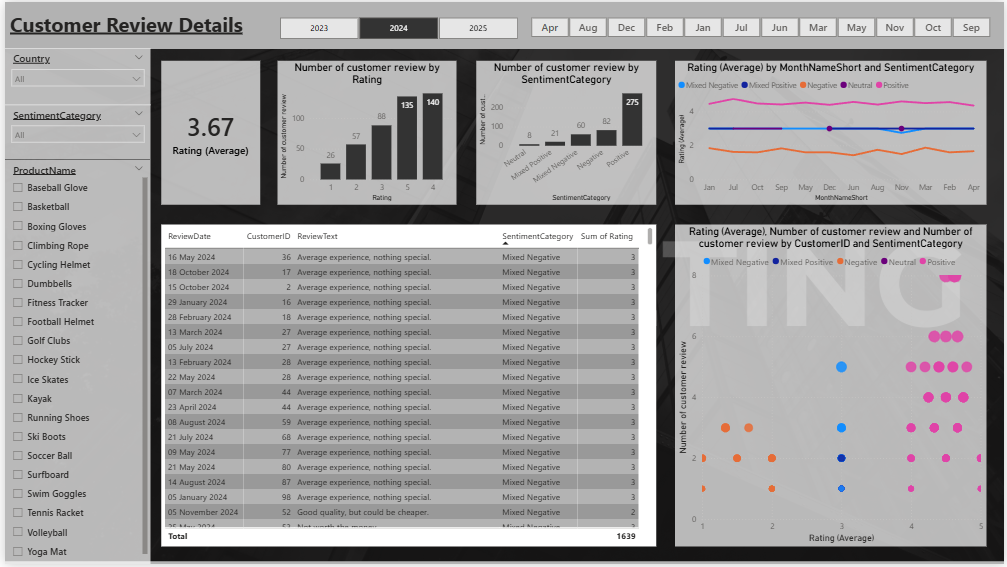

This screenshot's page, from the dashboard's own definition file:
{"tool":"powerbi","page":{"name":"Customer Review Details","canvas":[1600,900],"ordinal":3},"visuals":[{"type":"shape","box":[0,0,1600,75],"z":0},{"type":"textbox","box":[0,8,388,76],"z":1000},{"type":"slicer","fields":{"Values":["Calendar.Year"]},"box":[414,18,430,48],"z":2000},{"type":"slicer","fields":{"Values":["Calendar.MonthNameShort"]},"box":[816,18,784,42],"z":3000},{"type":"slicer","fields":{"Values":["products.ProductName"]},"box":[0,251.7,233,648.3],"z":4000},{"type":"lineChart","fields":{"Category":["Calendar.MonthNameShort"],"Y":["Calculation.Rating (Average)"],"Series":["Customer-Sentiment-Analysis-.SentimentCategory"]},"box":[1071.7,93.3,498.3,230],"z":5000},{"type":"tableEx","fields":{"Values":["Customer-Sentiment-Analysis-.ReviewDate","Customer-Sentiment-Analysis-.CustomerID","Customer-Sentiment-Analysis-.ReviewText","Customer-Sentiment-Analysis-.SentimentCategory","Sum(Customer-Sentiment-Analysis-.Rating)"]},"box":[250,356.7,791.7,515],"z":6000},{"type":"columnChart","fields":{"Y":["Calculation.Number of customer review"],"Category":["Customer-Sentiment-Analysis-.Rating"]},"box":[435,93.3,286.7,230],"z":7000},{"type":"columnChart","fields":{"Category":["Customer-Sentiment-Analysis-.SentimentCategory"],"Y":["Calculation.Number of customer review"]},"box":[753.3,93.3,288.3,230],"z":8000},{"type":"slicer","fields":{"Values":["customers.Country"]},"box":[0,73.3,233,90.8],"z":9000},{"type":"slicer","fields":{"Values":["Customer-Sentiment-Analysis-.SentimentCategory"]},"box":[0,164.2,233,87.5],"z":10000},{"type":"scatterChart","fields":{"X":["Calculation.Rating (Average)"],"Y":["Calculation.Number of customer review"],"Category":["customers.CustomerID"],"Series":["Customer-Sentiment-Analysis-.SentimentCategory"],"Size":["Calculation.Number of customer review"]},"box":[1071.7,356.7,498.3,515],"z":11000},{"type":"card","fields":{"Values":["Calculation.Rating (Average)"]},"box":[250,93.3,158.3,230],"z":12000}]}

Visuals, with their boxes in screenshot pixels (x1, y1, x2, y2), scaled from the page's 1600x900 canvas onto the 1007x567 screenshot:
shape: BBox(0, 0, 1006, 47)
textbox: BBox(0, 5, 244, 53)
slicer - Calendar.Year: BBox(261, 11, 531, 42)
slicer - Calendar.MonthNameShort: BBox(514, 11, 1006, 38)
slicer - products.ProductName: BBox(0, 159, 147, 566)
lineChart - Calendar.MonthNameShort x Calculation.Rating (Average): BBox(675, 59, 988, 204)
tableEx - Customer-Sentiment-Analysis-.ReviewDate x Customer-Sentiment-Analysis-.CustomerID: BBox(157, 225, 656, 549)
columnChart - Calculation.Number of customer review x Customer-Sentiment-Analysis-.Rating: BBox(274, 59, 454, 204)
columnChart - Customer-Sentiment-Analysis-.SentimentCategory x Calculation.Number of customer review: BBox(474, 59, 656, 204)
slicer - customers.Country: BBox(0, 46, 147, 103)
slicer - Customer-Sentiment-Analysis-.SentimentCategory: BBox(0, 103, 147, 159)
scatterChart - Calculation.Rating (Average) x Calculation.Number of customer review: BBox(675, 225, 988, 549)
card - Calculation.Rating (Average): BBox(157, 59, 257, 204)
